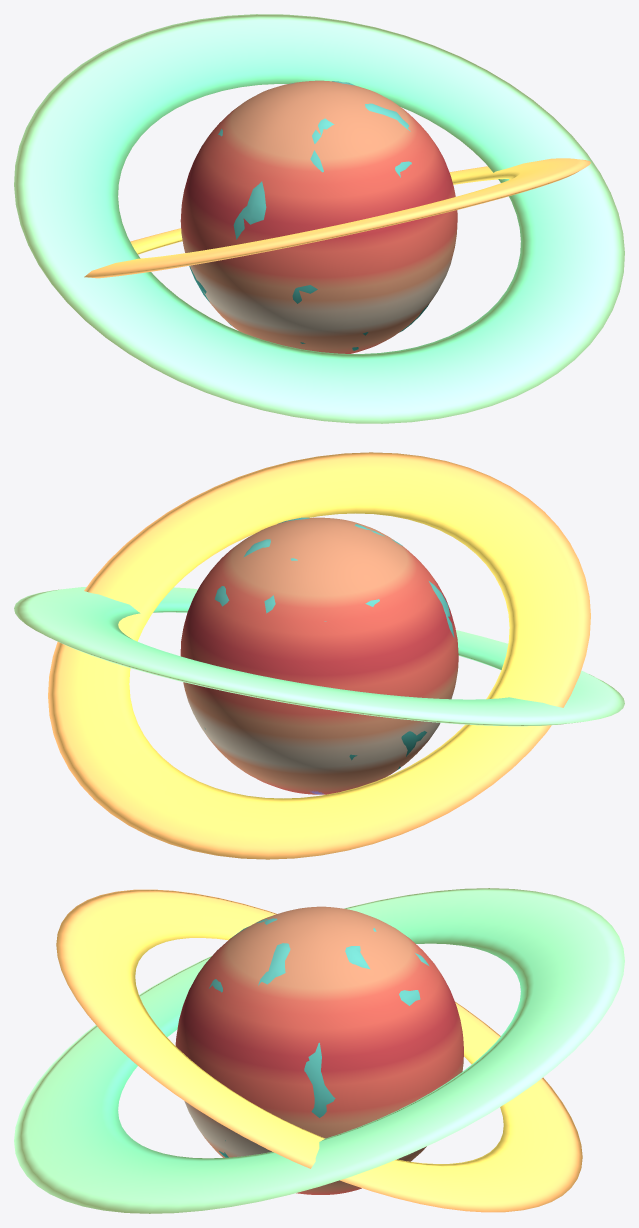
File: planetas-cosmos.glb
3 renders of one model, top to bottom at view 1: azimuth 30°, elevation 25°; view 2: azimuth 150°, elevation 25°; view 3: azimuth 270°, elevation 25°, orthographic. The views are drawn at different scales.
Visible parts, largest first — view 1: Anillo A, Planeta A, Anillo C, Planeta B; view 2: Anillo C, Planeta A, Anillo A, Planeta B; view 3: Anillo A, Planeta A, Anillo C, Planeta B.
Part boxes in pixels (x1,y1,x2,y2): Anillo A: [14, 14, 624, 423]; Planeta A: [180, 80, 457, 353]; Anillo C: [84, 158, 590, 278]; Planeta B: [189, 81, 429, 350]; Anillo C: [48, 452, 590, 859]; Planeta A: [180, 517, 458, 794]; Anillo A: [14, 586, 624, 726]; Planeta B: [205, 517, 454, 770]; Anillo A: [14, 888, 624, 1213]; Planeta A: [175, 906, 463, 1194]; Anillo C: [56, 889, 582, 1212]; Planeta B: [209, 918, 429, 1157].
Bounding box in the file's own units: 4.46 × 2 × 4.24.
